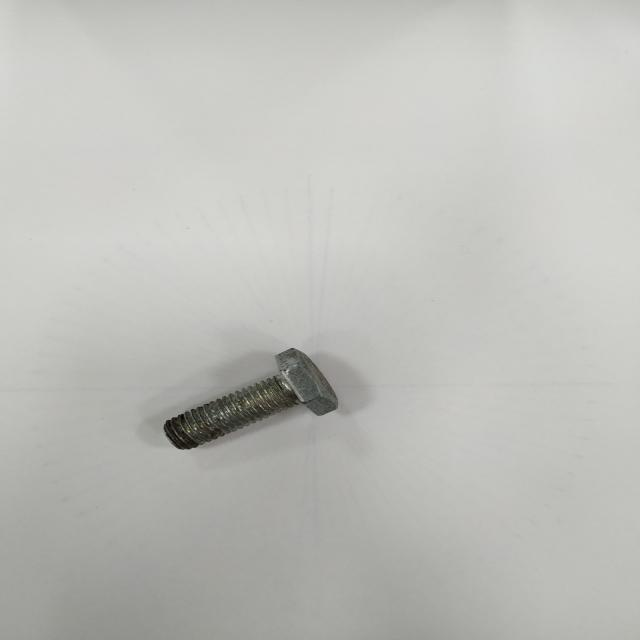Bolt: (163, 349, 338, 449)
